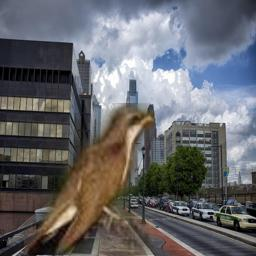Cuckoo: (24, 103, 154, 255)
